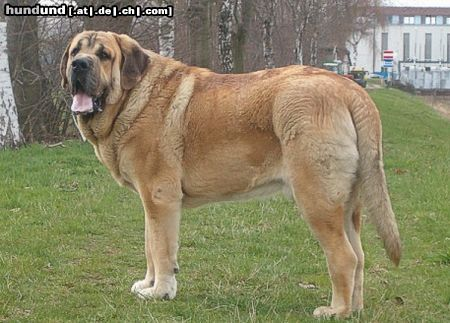mastin_espanol: (59, 29, 401, 323)
